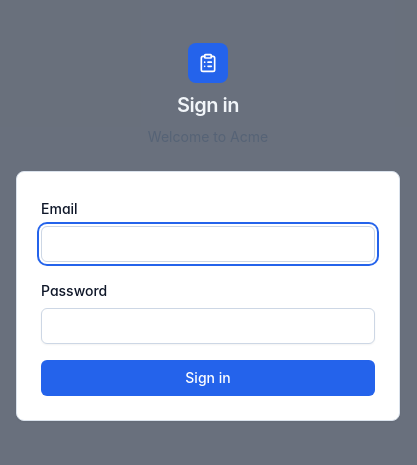
Test: LoginPage › shows the server error for bad credentials
In the field labelled "Email": [208, 244] box [41,226,375,262], type "someone@example.com"
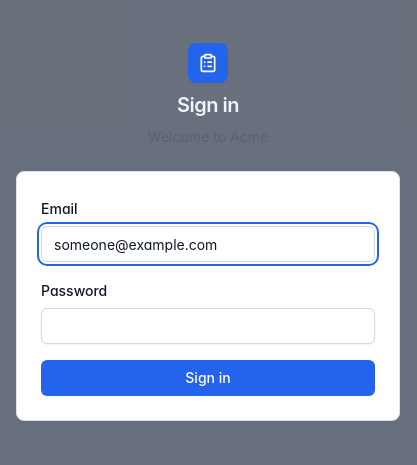
In the password field labelled "Password": [208, 326] box [41,308,375,344], type "wrong"
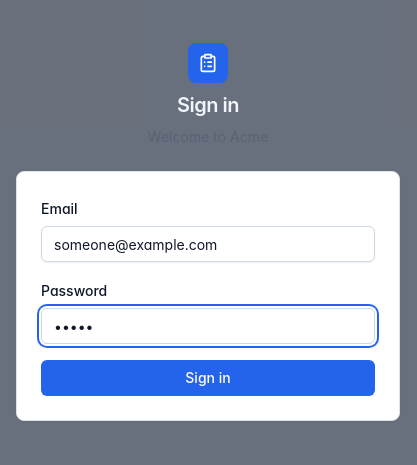
Click the button "Sign in": [208, 378] box [41,360,375,396]
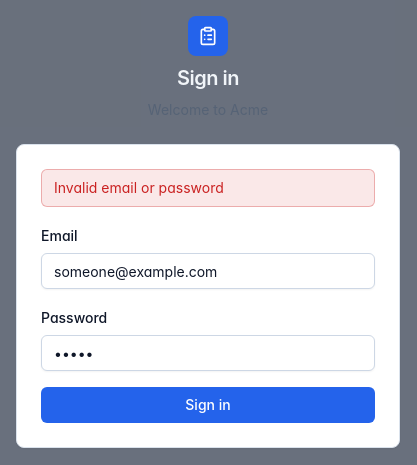
Result: the message reads "Invalid email or password" at [54,179,224,196]
